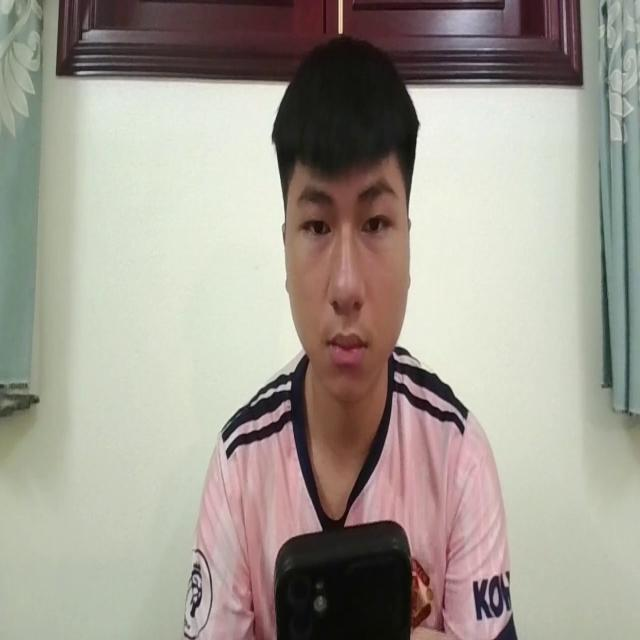phone: (268, 508, 408, 640)
student: (185, 31, 507, 640)
